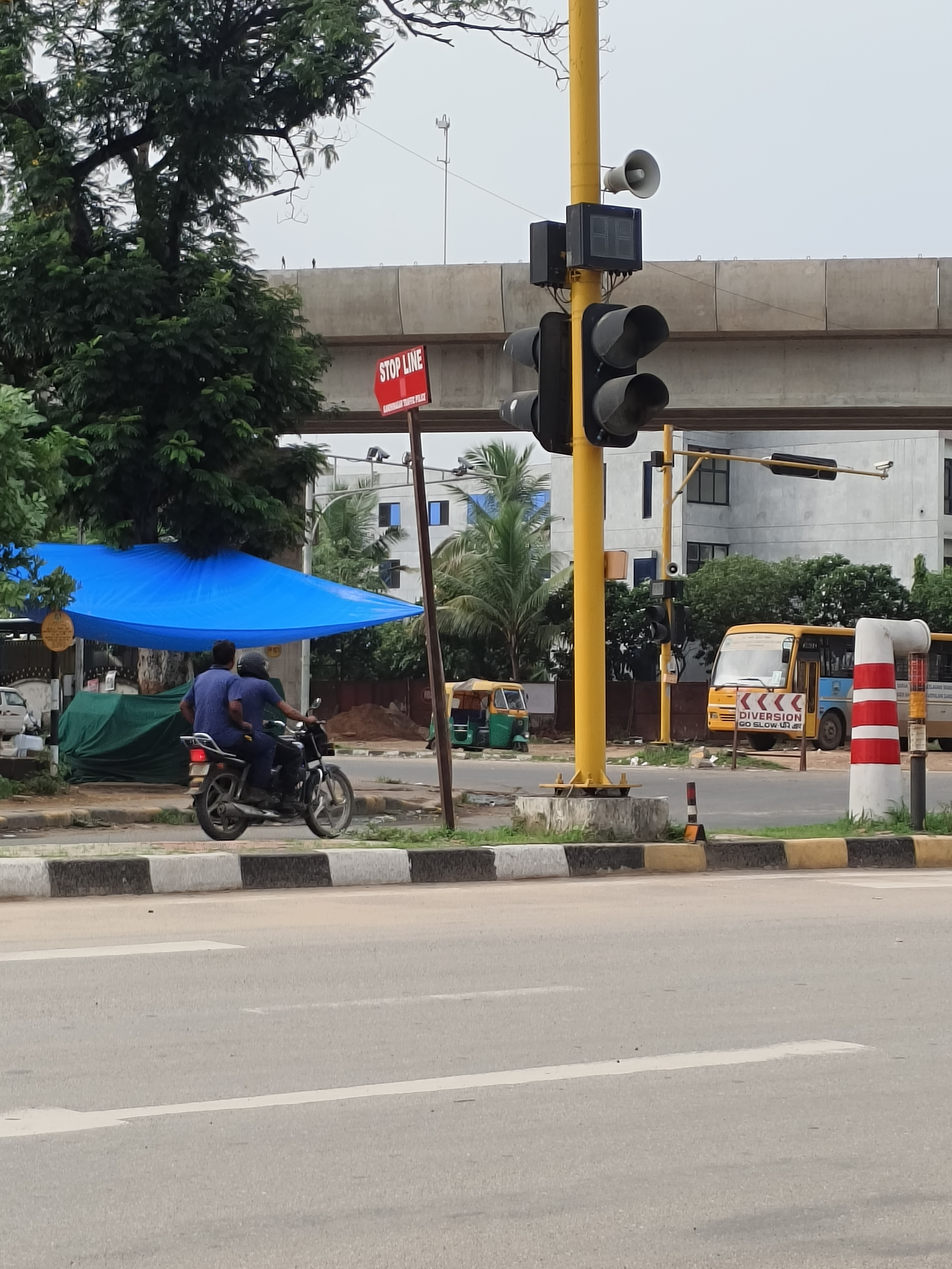BikeWithRider: (170, 635, 364, 847)
Helmet: (233, 647, 274, 684)
NoHelmet: (207, 635, 240, 674)
